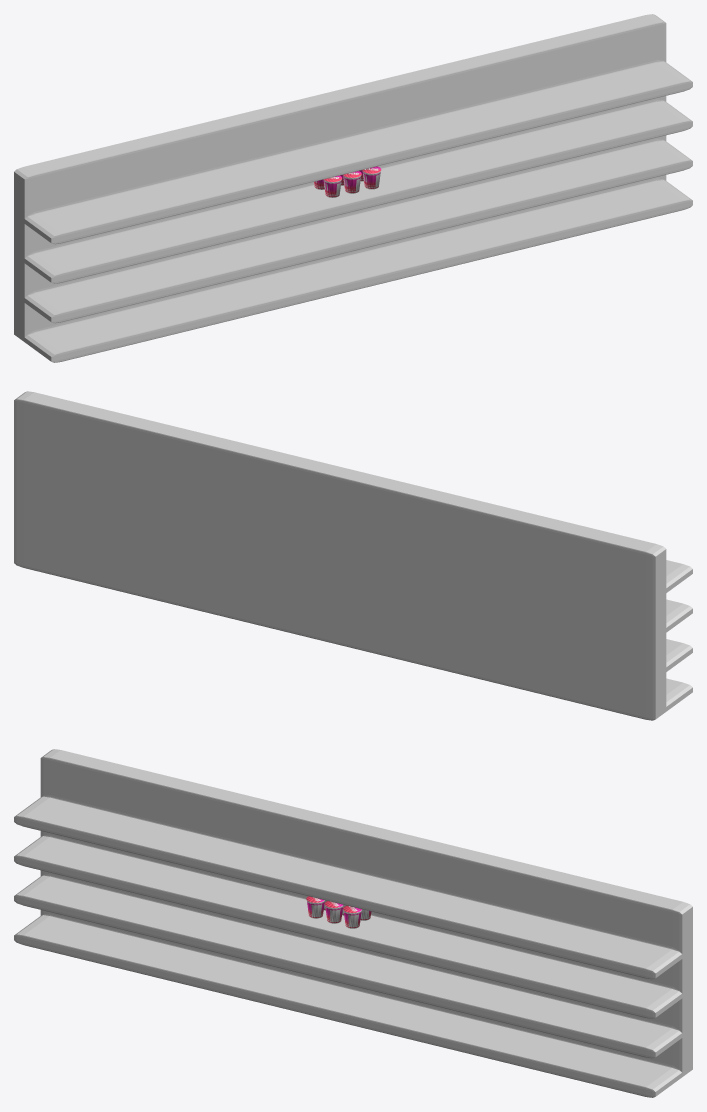
File: ramen2.fbx
The picture shows the model from 3 angles, top to bottom: view 1: azimuth 30°, elevation 25°; view 2: azimuth 150°, elevation 25°; view 3: azimuth 330°, elevation 25°; orthographic projection.
Visible parts, largest first — view 1: rack, cup_ramen; view 2: rack; view 3: rack, cup_ramen.
Boxes of the visible parts, x1,y1,x2,y2 form: rack: [14, 14, 692, 362]; cup_ramen: [314, 166, 381, 197]; rack: [14, 391, 692, 720]; rack: [14, 749, 692, 1097]; cup_ramen: [306, 896, 371, 928].
Size of the model in its own units: 400 by 100 by 40.7.
Materials: 2 (1 with a texture image).
